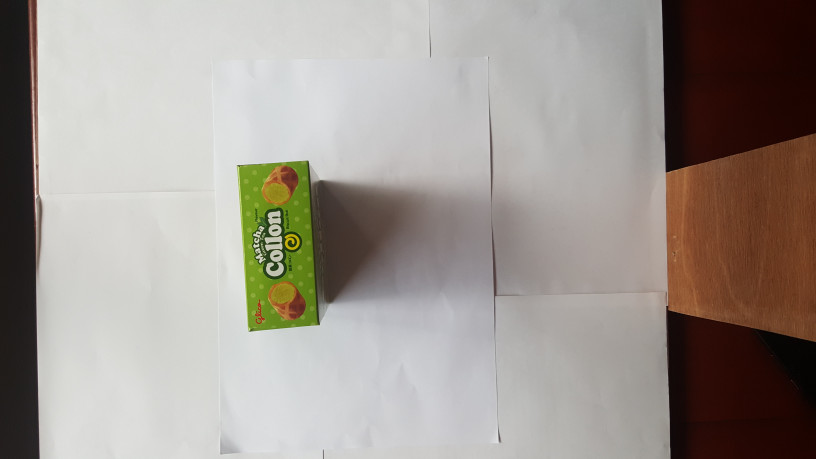collon-matcha: (236, 161, 323, 332)
